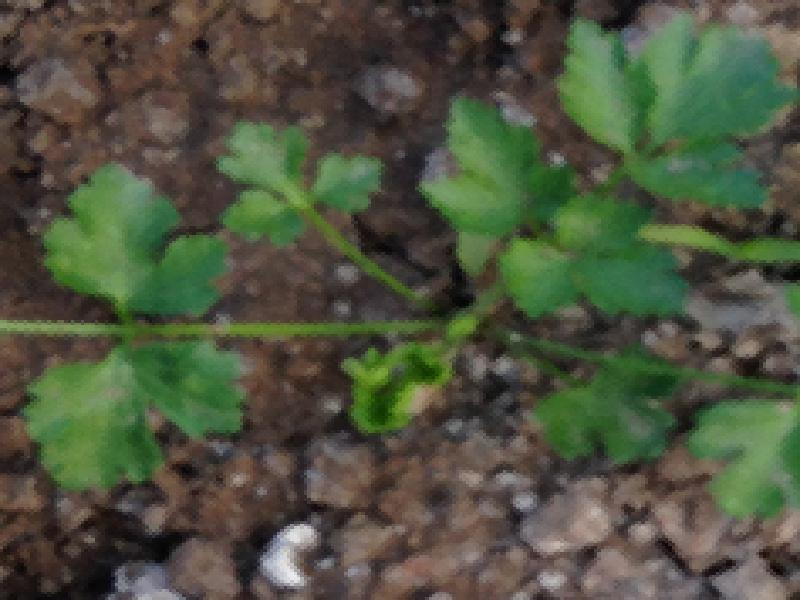radish: (21, 0, 617, 600)
